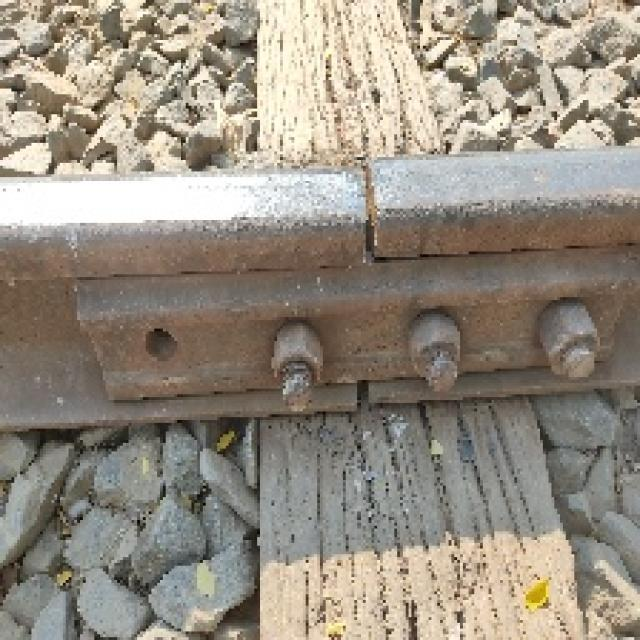Defective Joint: (70, 251, 635, 408)
